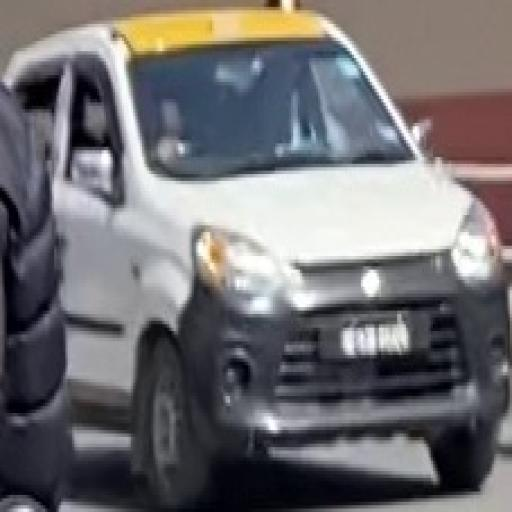license_plate: (338, 317, 413, 360)
